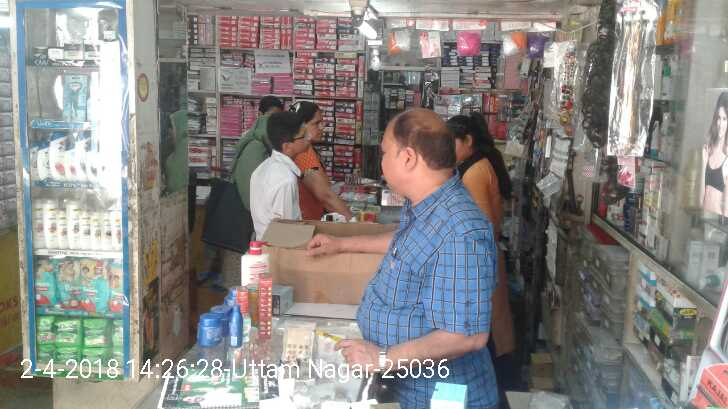venus: (63, 74, 87, 118)
